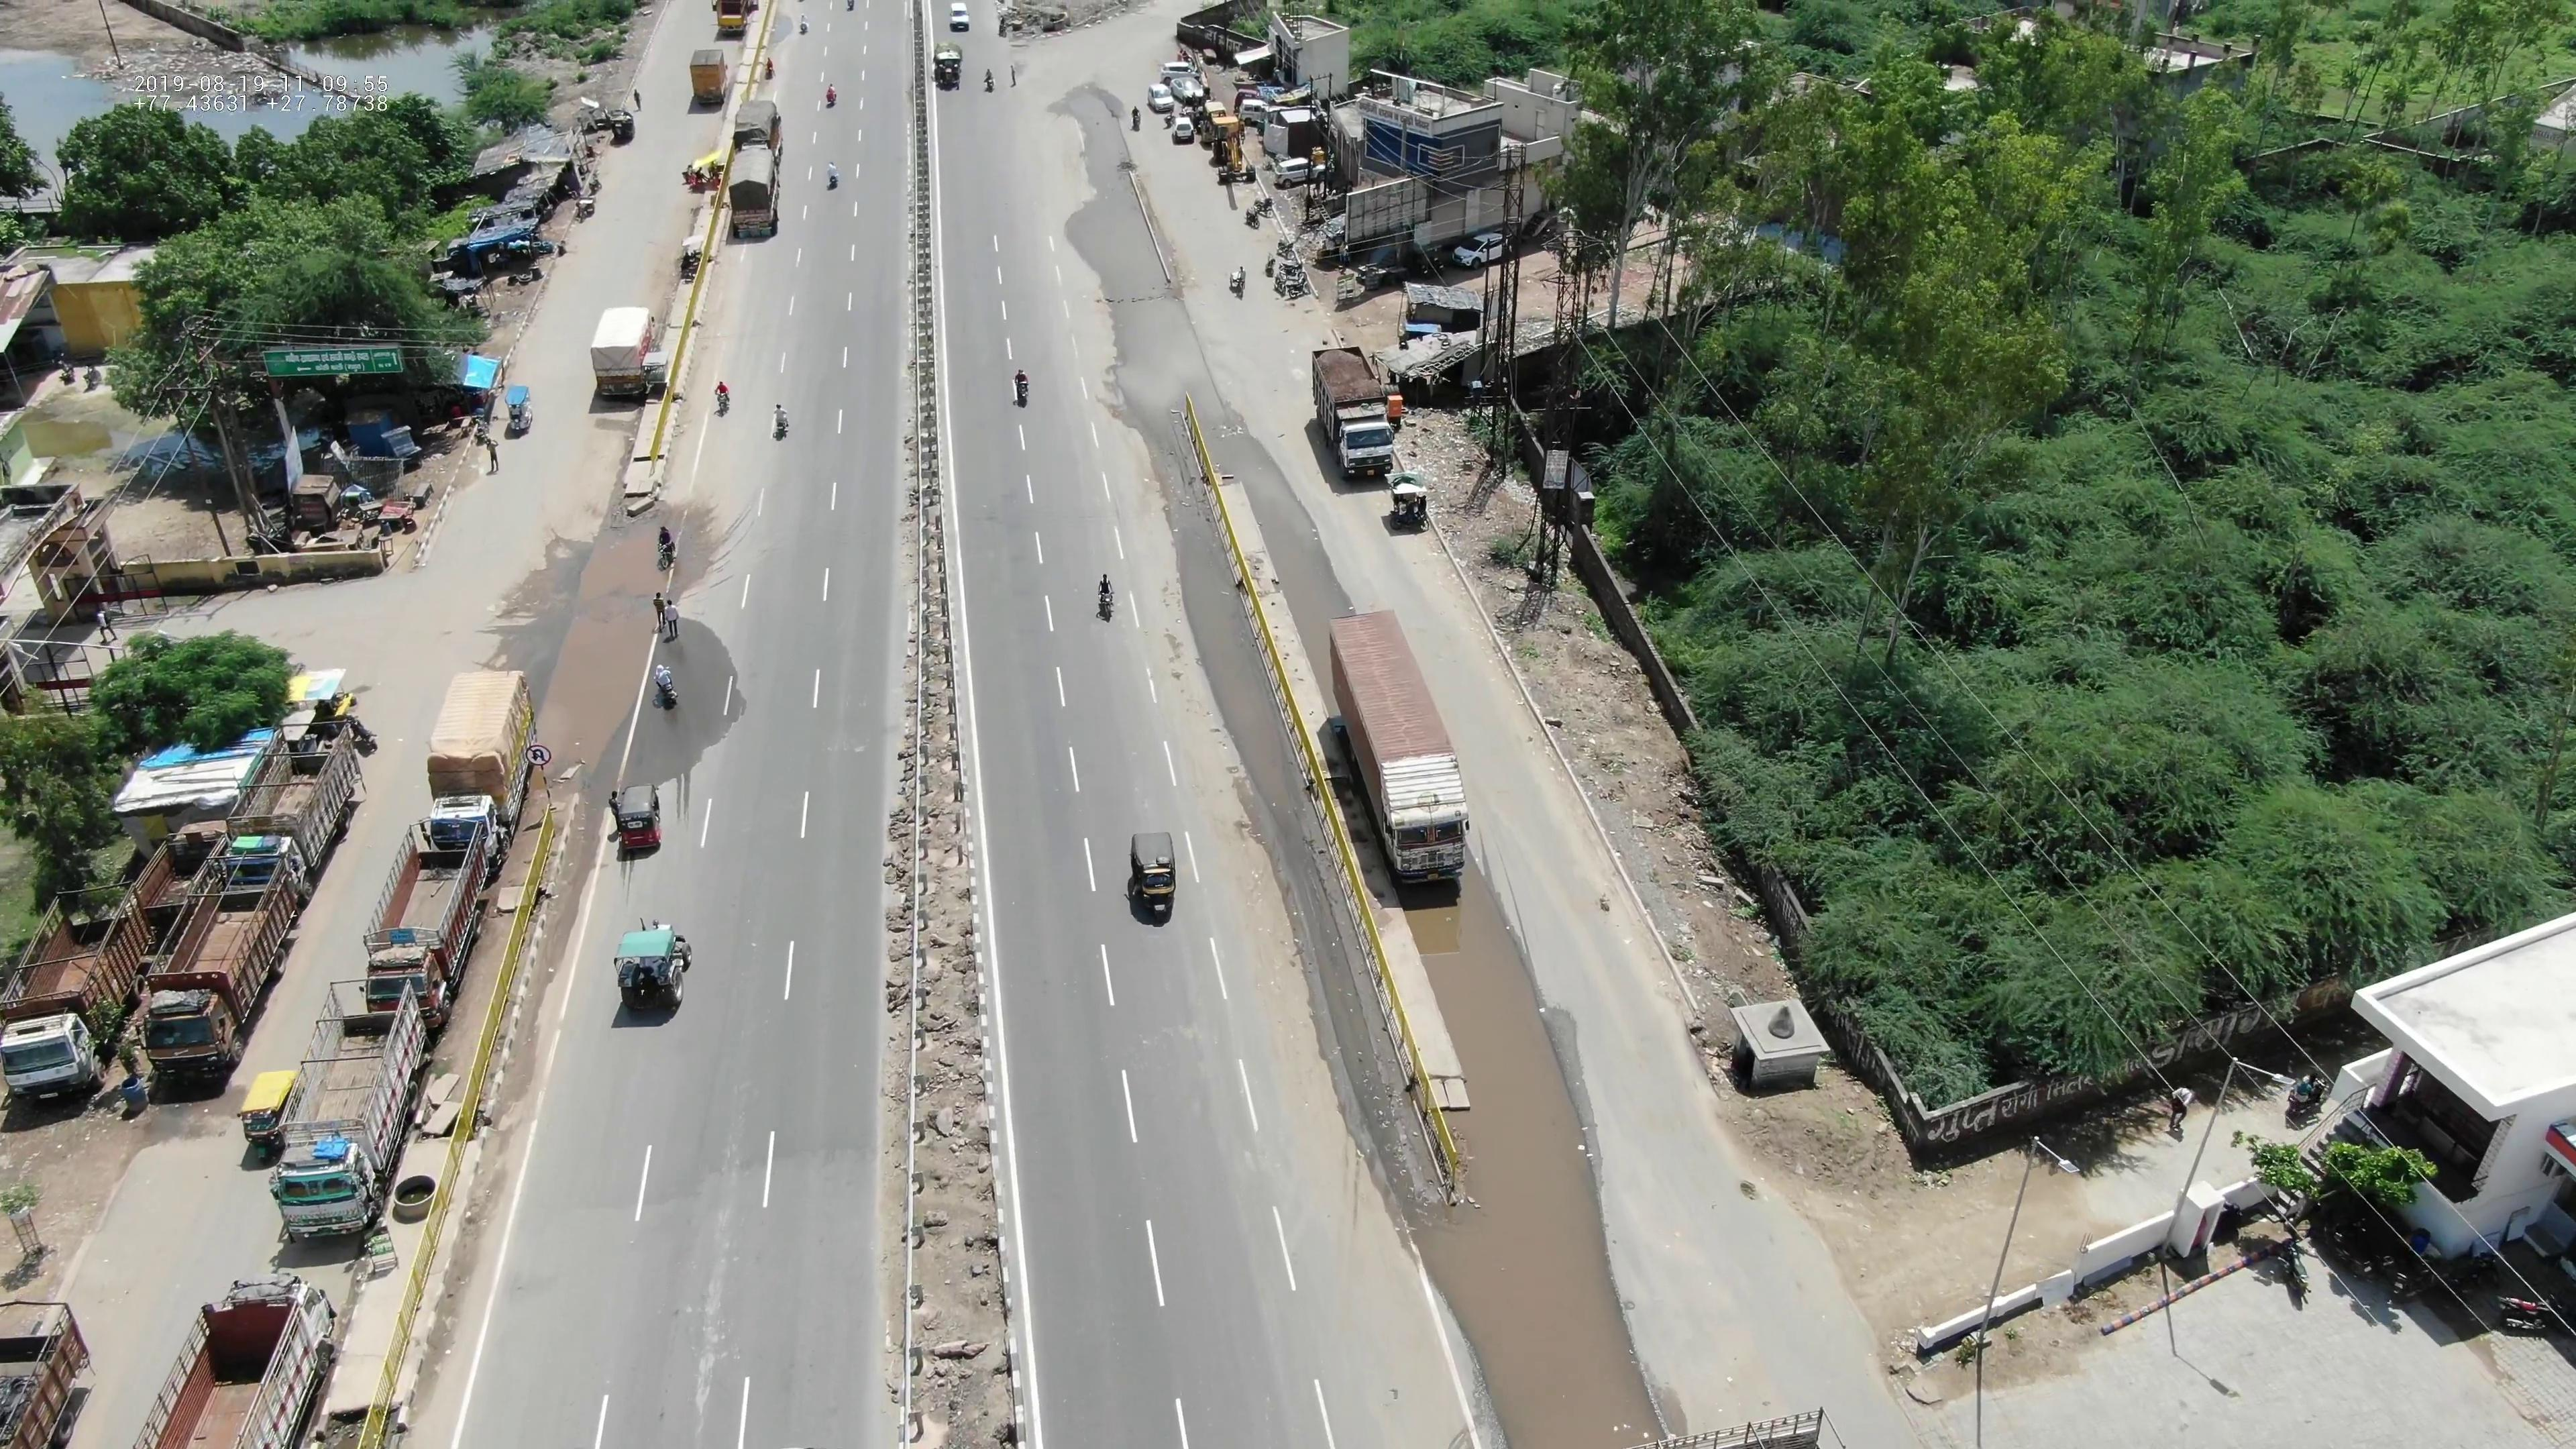Waterlogging: (1426, 941, 1651, 1430), (541, 518, 663, 755)
